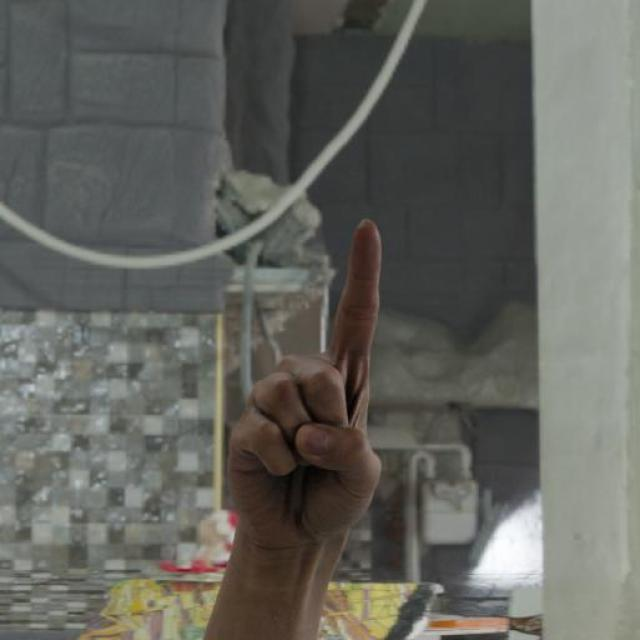Z: (222, 215, 386, 555)
